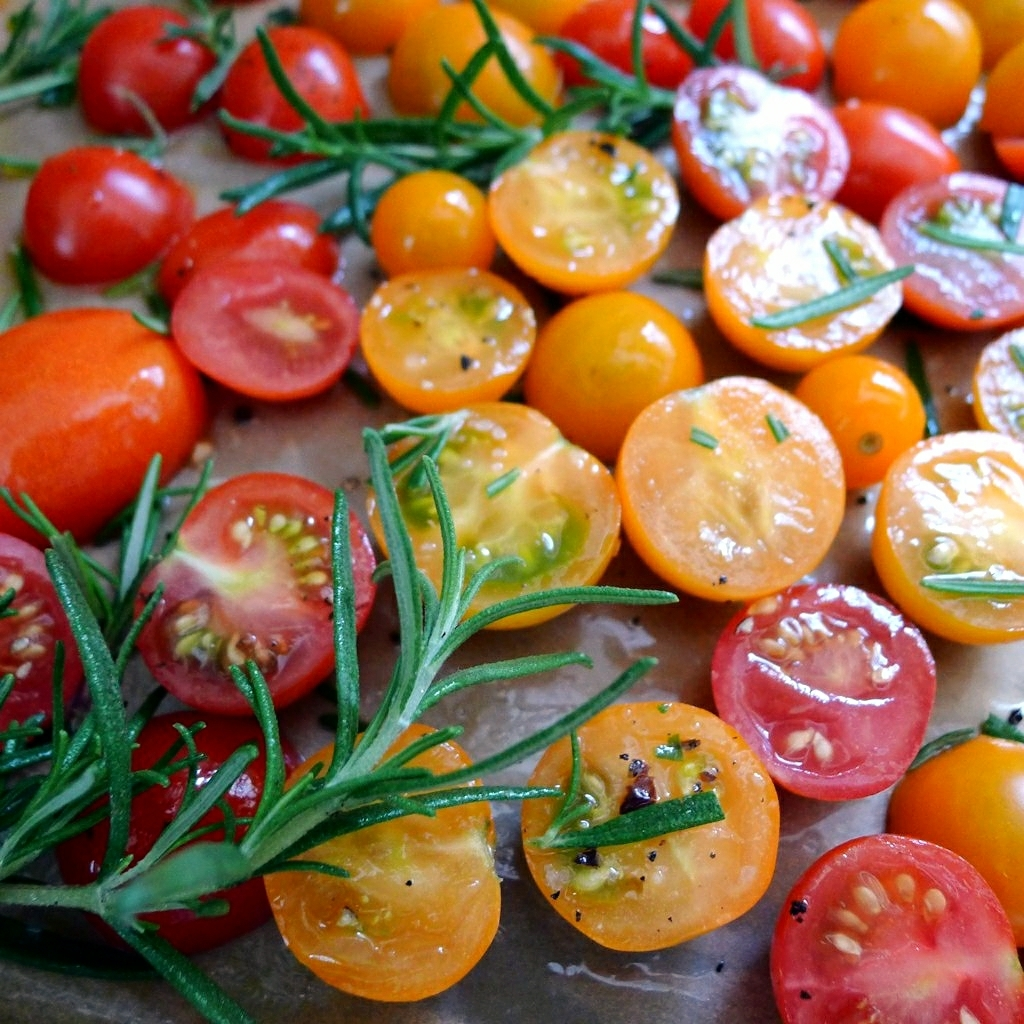Tomato: (0, 0, 1022, 1022), (704, 574, 940, 805), (0, 302, 211, 547)
